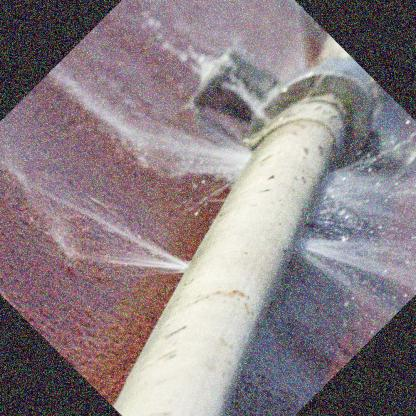burst: (295, 153, 381, 284), (198, 125, 269, 191), (133, 231, 211, 286)
